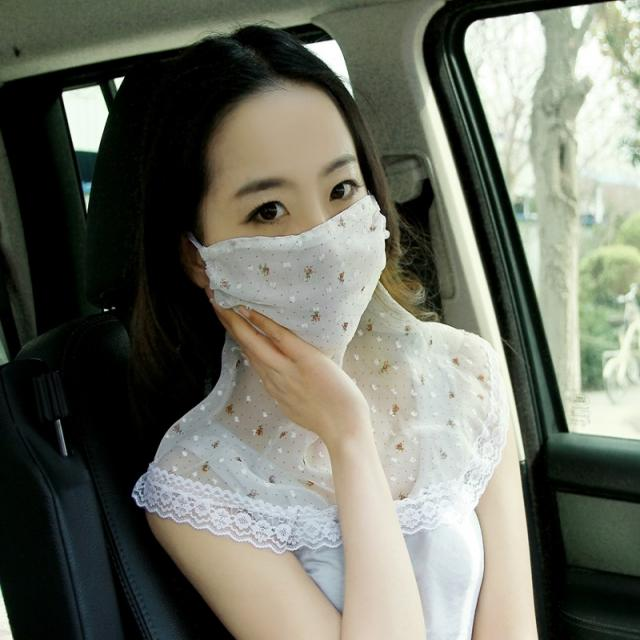mask: (207, 88, 382, 356)
